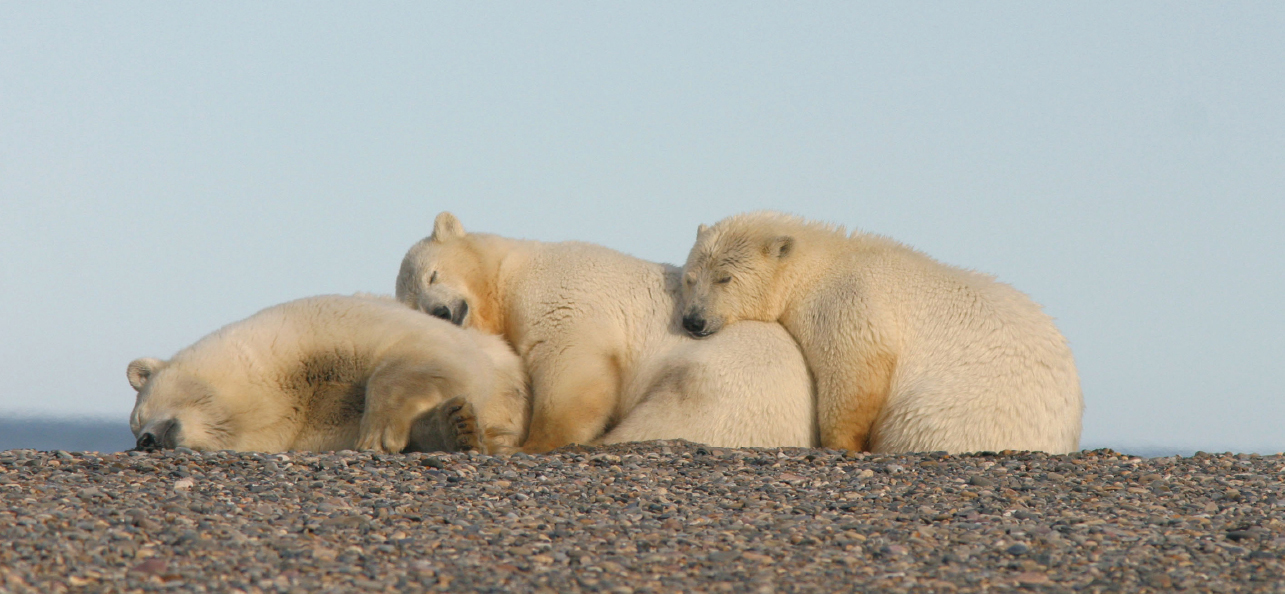Polar Bear: (679, 192, 1129, 483), (412, 198, 717, 515), (96, 263, 520, 477)
